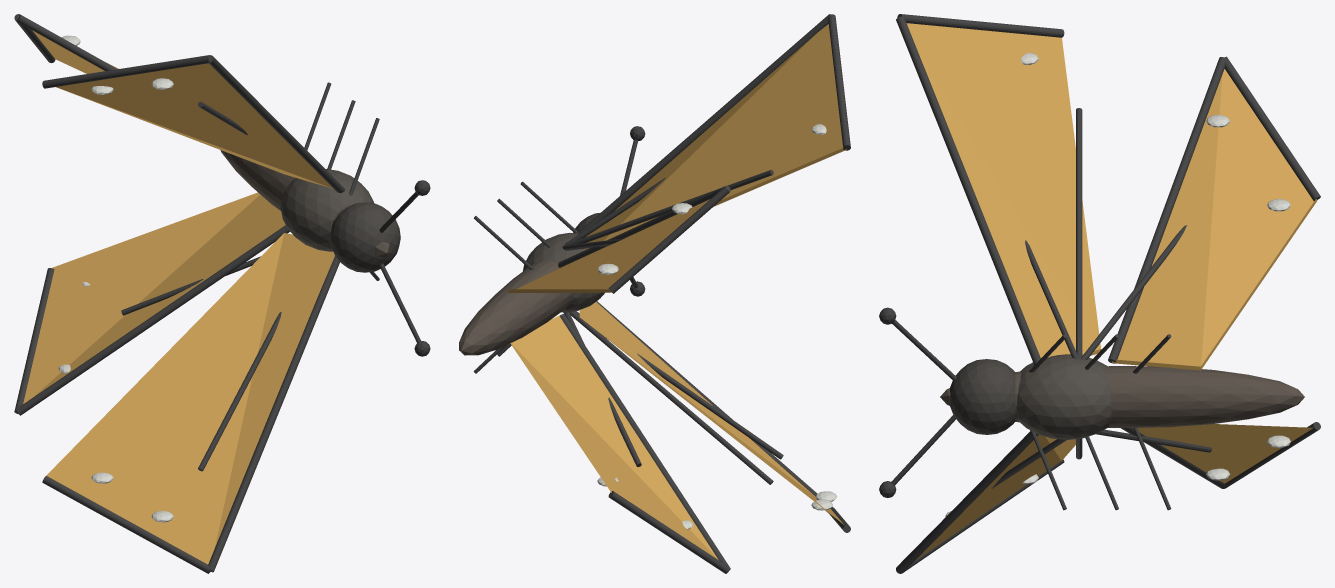
The model's file is mariposa_invertebrado.glb.
The picture shows the model from 3 angles, left to right: view 1: azimuth 30°, elevation 25°; view 2: azimuth 150°, elevation 25°; view 3: azimuth 270°, elevation 25°; orthographic projection. The views are drawn at different scales.
Parts seen in each view (by area): view 1: Ala superior derecha naranja, Ala inferior derecha naranja, Ala superior izquierda naranja, Torax mariposa, Cabeza mariposa, Borde ala superior_1, Borde ala inferior_1, Abdomen mariposa, Borde ala superior externo_1, Borde ala superior, Borde ala superior externo, Vena negra de ala_3 (+4 smaller); view 2: Ala superior izquierda naranja, Ala inferior derecha naranja, Abdomen mariposa, Ala inferior izquierda naranja, Ala superior derecha naranja, Borde ala superior, Borde ala inferior_1, Vena negra de ala_4, Torax mariposa, Borde ala inferior externo, Borde ala inferior externo_1, Borde ala superior externo (+6 smaller); view 3: Ala superior izquierda naranja, Ala inferior izquierda naranja, Abdomen mariposa, Torax mariposa, Ala inferior derecha naranja, Cabeza mariposa, Borde ala superior, Ala superior derecha naranja, Borde ala inferior, Borde ala superior_1, Vena negra de ala_1, Borde ala inferior externo (+7 smaller).
Boxes of the visible parts, x1,y1,x2,y2 form: Ala superior derecha naranja: (46,233,334,564); Ala inferior derecha naranja: (23,192,285,403); Ala superior izquierda naranja: (56,57,333,188); Torax mariposa: (280,169,373,251); Cabeza mariposa: (330,202,400,272); Borde ala superior_1: (208,256,339,572); Borde ala inferior_1: (16,225,289,415); Abdomen mariposa: (220,150,389,258); Borde ala superior externo_1: (42,476,210,573); Borde ala superior: (209,55,344,192); Borde ala superior externo: (42,55,210,88); Vena negra de ala_3: (198,312,281,471); Ala superior izquierda naranja: (584,24,846,250); Ala inferior derecha naranja: (510,315,718,559); Abdomen mariposa: (459,260,572,355); Ala inferior izquierda naranja: (508,188,727,292); Ala superior derecha naranja: (579,302,844,525); Borde ala superior: (578,14,830,234); Borde ala inferior_1: (559,314,730,570); Vena negra de ala_4: (569,311,773,484); Torax mariposa: (523,233,604,312); Borde ala inferior externo: (608,187,729,293); Borde ala inferior externo_1: (608,491,729,573); Borde ala superior externo: (828,14,850,150); Ala superior izquierda naranja: (906,23,1101,357); Ala inferior izquierda naranja: (1112,69,1317,370); Abdomen mariposa: (940,366,1304,427); Torax mariposa: (1016,354,1111,439); Ala inferior derecha naranja: (1132,424,1317,483); Cabeza mariposa: (950,359,1015,434); Borde ala superior: (896,16,1042,364); Ala superior derecha naranja: (915,434,1075,560); Borde ala inferior: (1108,57,1224,363); Borde ala superior_1: (896,431,1038,573); Vena negra de ala_1: (1076,108,1082,359); Borde ala inferior externo: (1224,56,1320,200).
Size of the model in its own units: 2.43 by 3.55 by 2.54.
